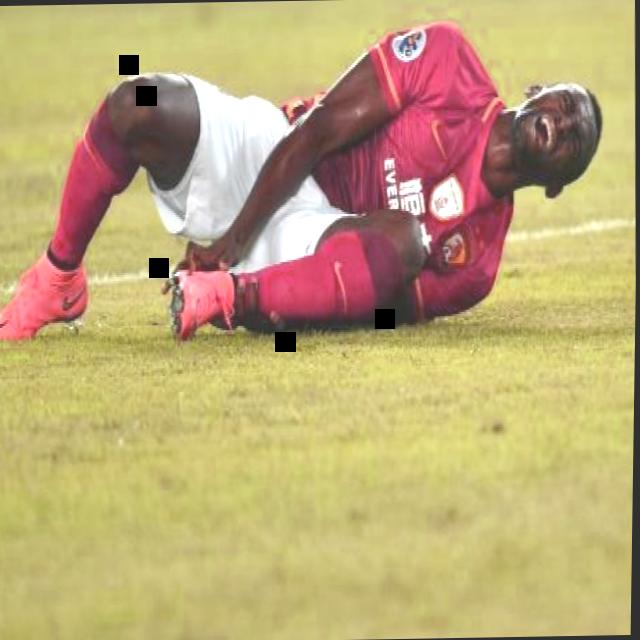Fall-Detected: (0, 0, 576, 345)
